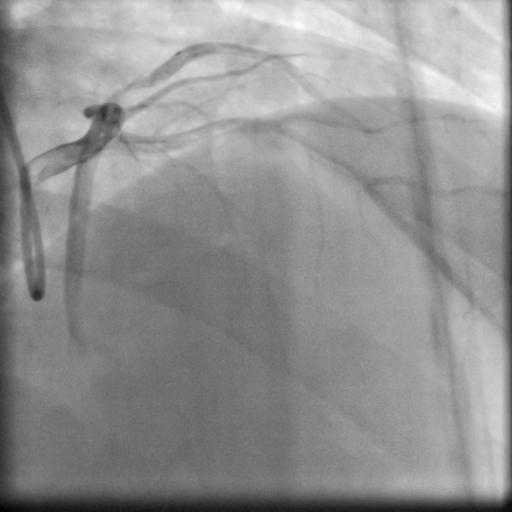Stenosis: (102, 75, 152, 98)
